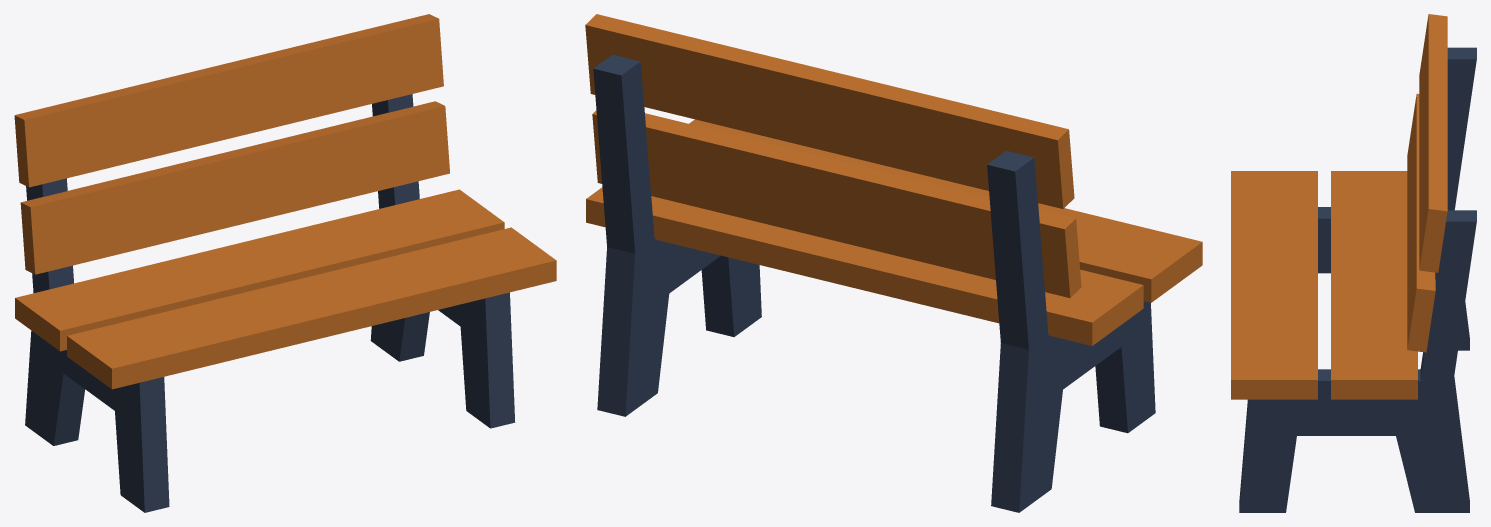
File: prop-bench.glb
3 renders of one model, left to right at view 1: azimuth 30°, elevation 25°; view 2: azimuth 150°, elevation 25°; view 3: azimuth 270°, elevation 25°, orthographic. The views are drawn at different scales.
Visible parts, largest first — view 1: Prop_Bench; view 2: Prop_Bench; view 3: Prop_Bench.
Boxes of the visible parts, <box> form: Prop_Bench: <box>14,14,556,512</box>; Prop_Bench: <box>585,14,1202,512</box>; Prop_Bench: <box>1231,14,1476,512</box>.
Bounding box in the file's own units: 1.8 × 1.26 × 0.895.
